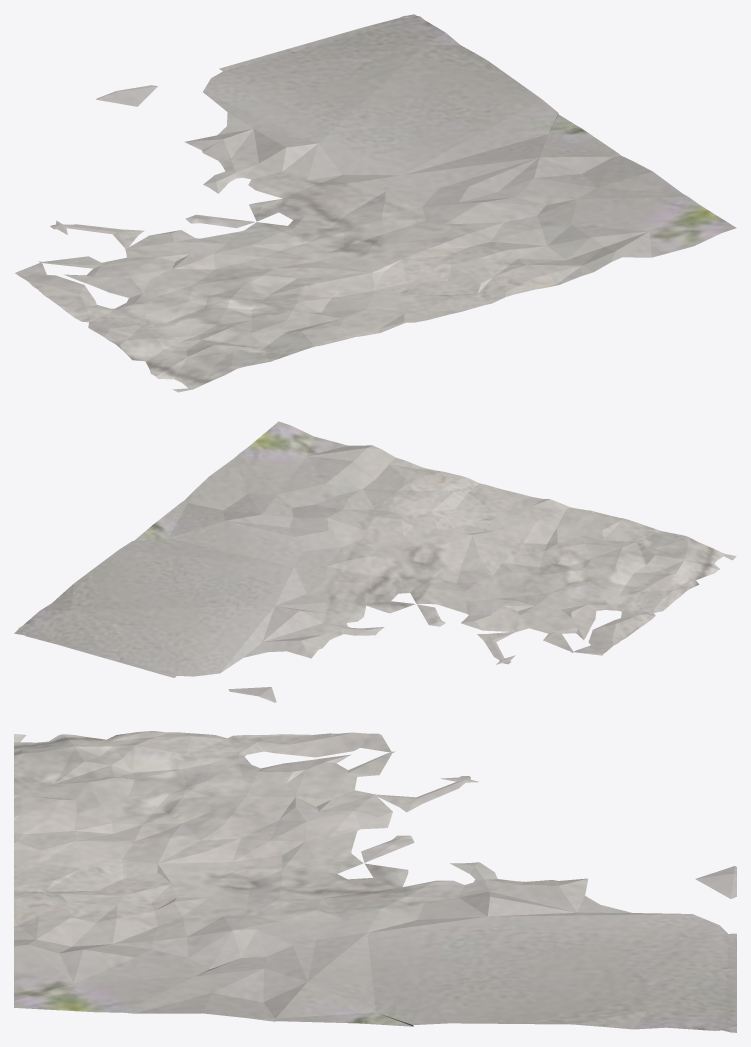
3 views of the same model, one above another, from view 1: azimuth 30°, elevation 25°; view 2: azimuth 150°, elevation 25°; view 3: azimuth 270°, elevation 25° (orthographic). The views are drawn at different scales.
Size of the model in its own units: 2.95 by 0.1488 by 2.95.
Materials: 2 (2 with a texture image).
